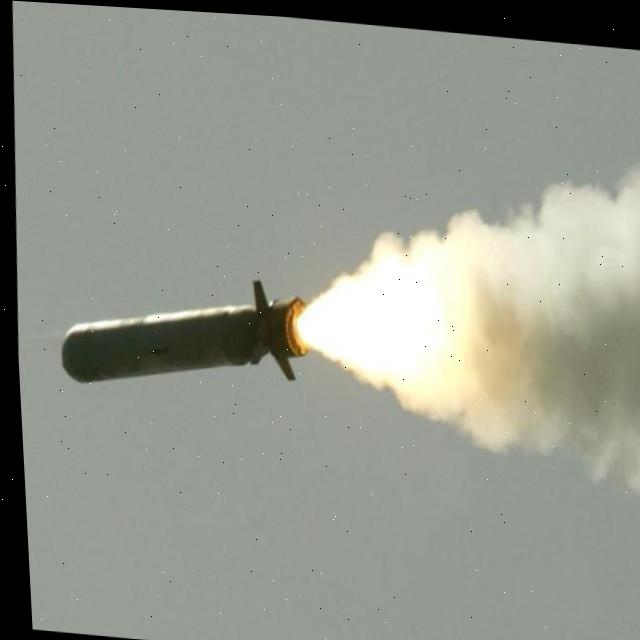missile: (50, 260, 311, 395)
